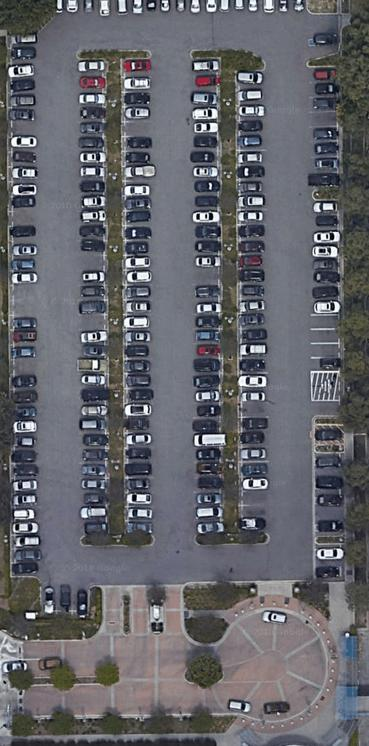parkingspot: (6, 33, 41, 579), (190, 56, 225, 537), (235, 69, 271, 533), (75, 57, 109, 539), (121, 56, 155, 537), (307, 199, 343, 374), (52, 0, 308, 18), (307, 65, 342, 193), (311, 450, 347, 539), (39, 585, 92, 619), (311, 543, 343, 584), (311, 423, 346, 447)
